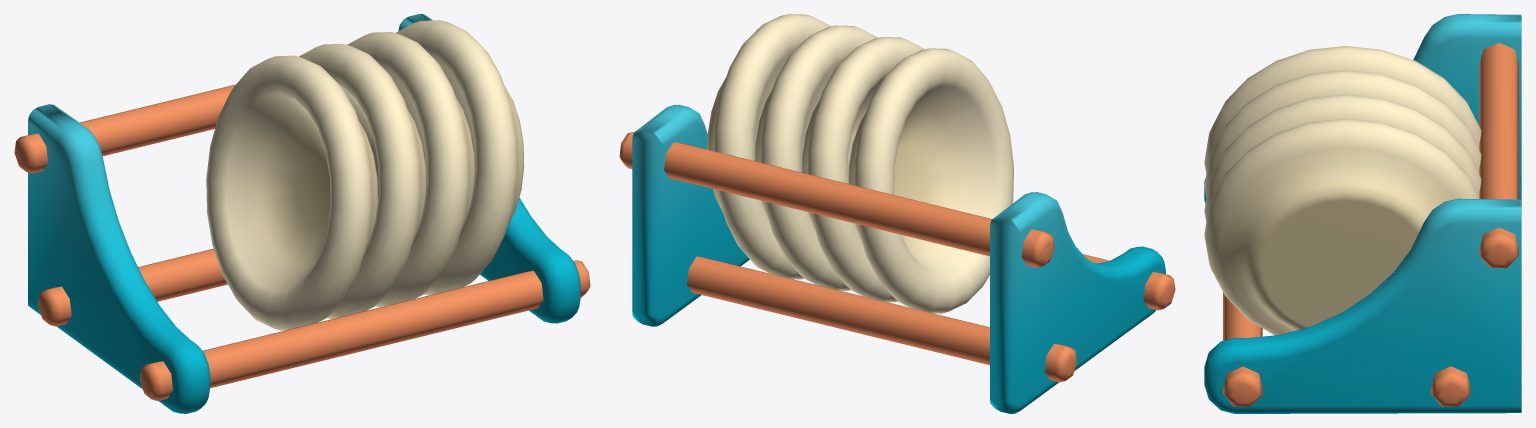
The model's file is Plate_001.fbx.
The picture shows the model from 3 angles, left to right: view 1: azimuth 30°, elevation 25°; view 2: azimuth 150°, elevation 25°; view 3: azimuth 270°, elevation 25°; orthographic projection. The views are drawn at different scales.
Visible parts, largest first — view 1: Plate_001; view 2: Plate_001; view 3: Plate_001.
Part boxes in pixels (x1,y1,x2,y2): Plate_001: (14, 14, 590, 413); Plate_001: (619, 14, 1175, 413); Plate_001: (1204, 14, 1521, 413).
Bounding box in the file's own units: 0.4548 × 0.2594 × 0.2785.
